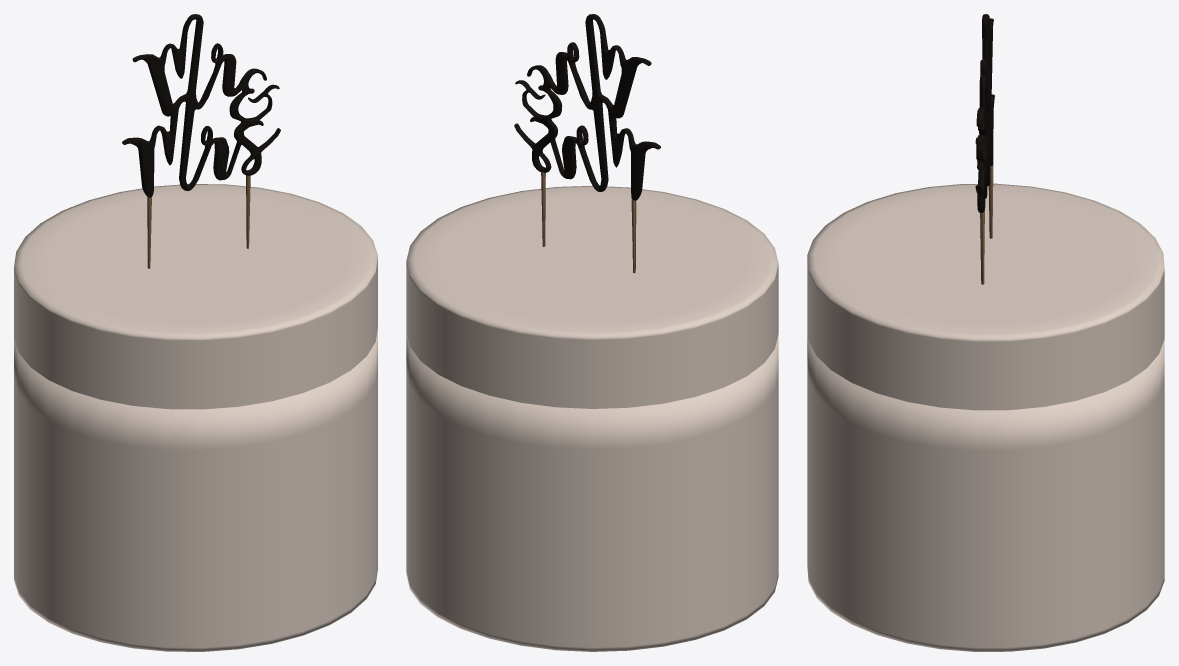
The model's file is 1-tier-white-none-mrms.glb.
3 renders of one model, left to right at view 1: azimuth 30°, elevation 25°; view 2: azimuth 150°, elevation 25°; view 3: azimuth 270°, elevation 25°, orthographic.
Parts seen in each view (by area): view 1: Cylinder.019, mrms.001; view 2: Cylinder.019, mrms.001; view 3: Cylinder.019, mrms.001.
Part boxes in pixels (x1,y1,x2,y2): Cylinder.019: (14,184,377,651); mrms.001: (122,14,280,268); Cylinder.019: (406,185,778,651); mrms.001: (514,14,660,273); Cylinder.019: (807,183,1164,651); mrms.001: (975,14,994,284).
Bounding box in the file's own units: 2.63 × 4.41 × 2.55.
